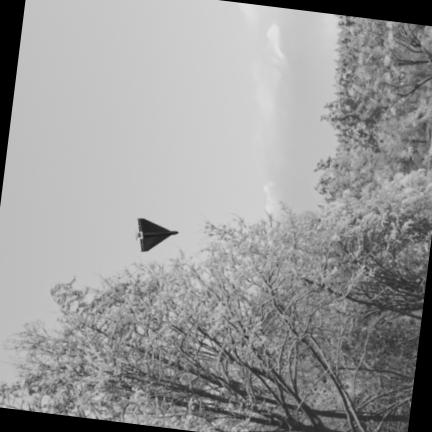Shahed: (135, 217, 177, 250)
